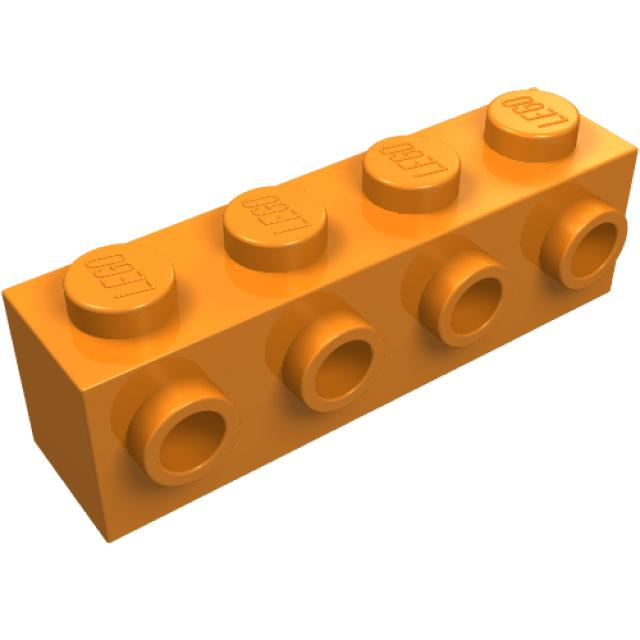Orange_Medium: (3, 88, 640, 544)
